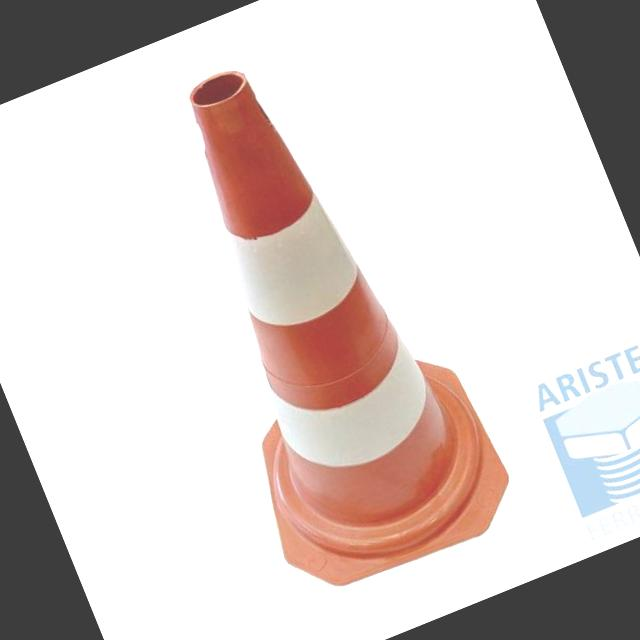cone: (114, 40, 514, 610)
